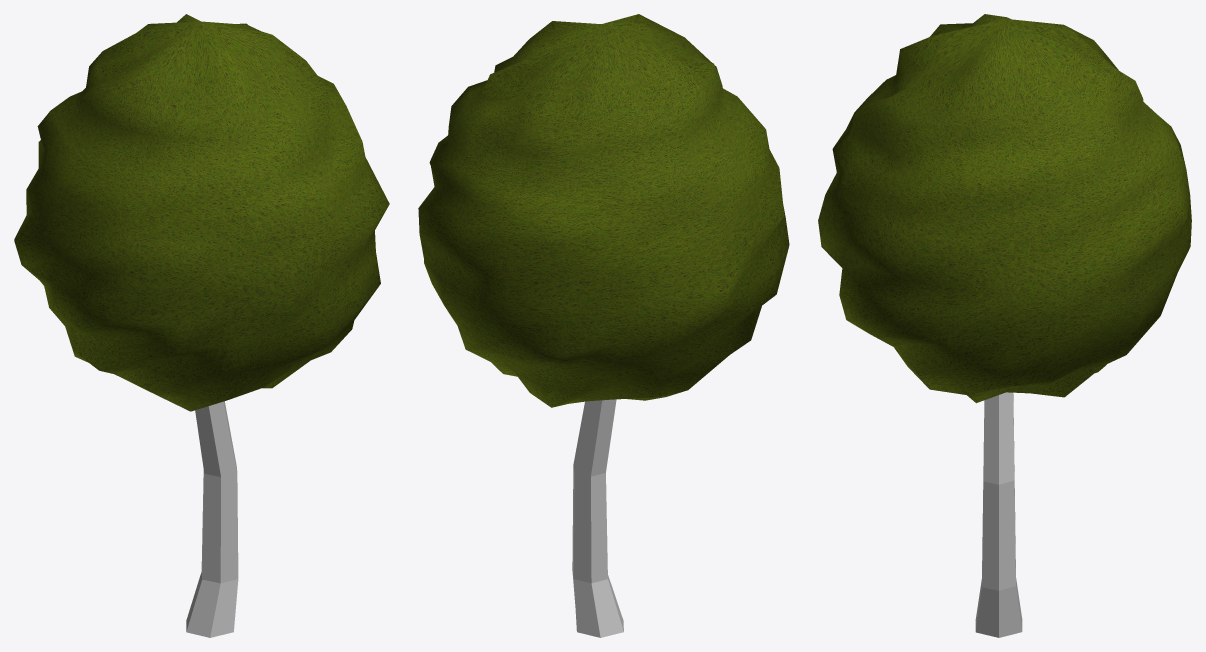
The model's file is tree2.fbx.
3 renders of one model, left to right at view 1: azimuth 30°, elevation 25°; view 2: azimuth 150°, elevation 25°; view 3: azimuth 270°, elevation 25°, orthographic.
Parts seen in each view (by area): view 1: pSphere1, pCylinder1; view 2: pSphere1, pCylinder1; view 3: pSphere1, pCylinder1.
Boxes of the visible parts, bbox=[...] form: pSphere1: bbox=[14, 14, 389, 411]; pCylinder1: bbox=[186, 401, 238, 637]; pSphere1: bbox=[418, 14, 789, 407]; pCylinder1: bbox=[572, 399, 623, 637]; pSphere1: bbox=[818, 14, 1191, 403]; pCylinder1: bbox=[975, 392, 1022, 637].
Bounding box in the file's own units: 13.57 × 24.64 × 13.8.
